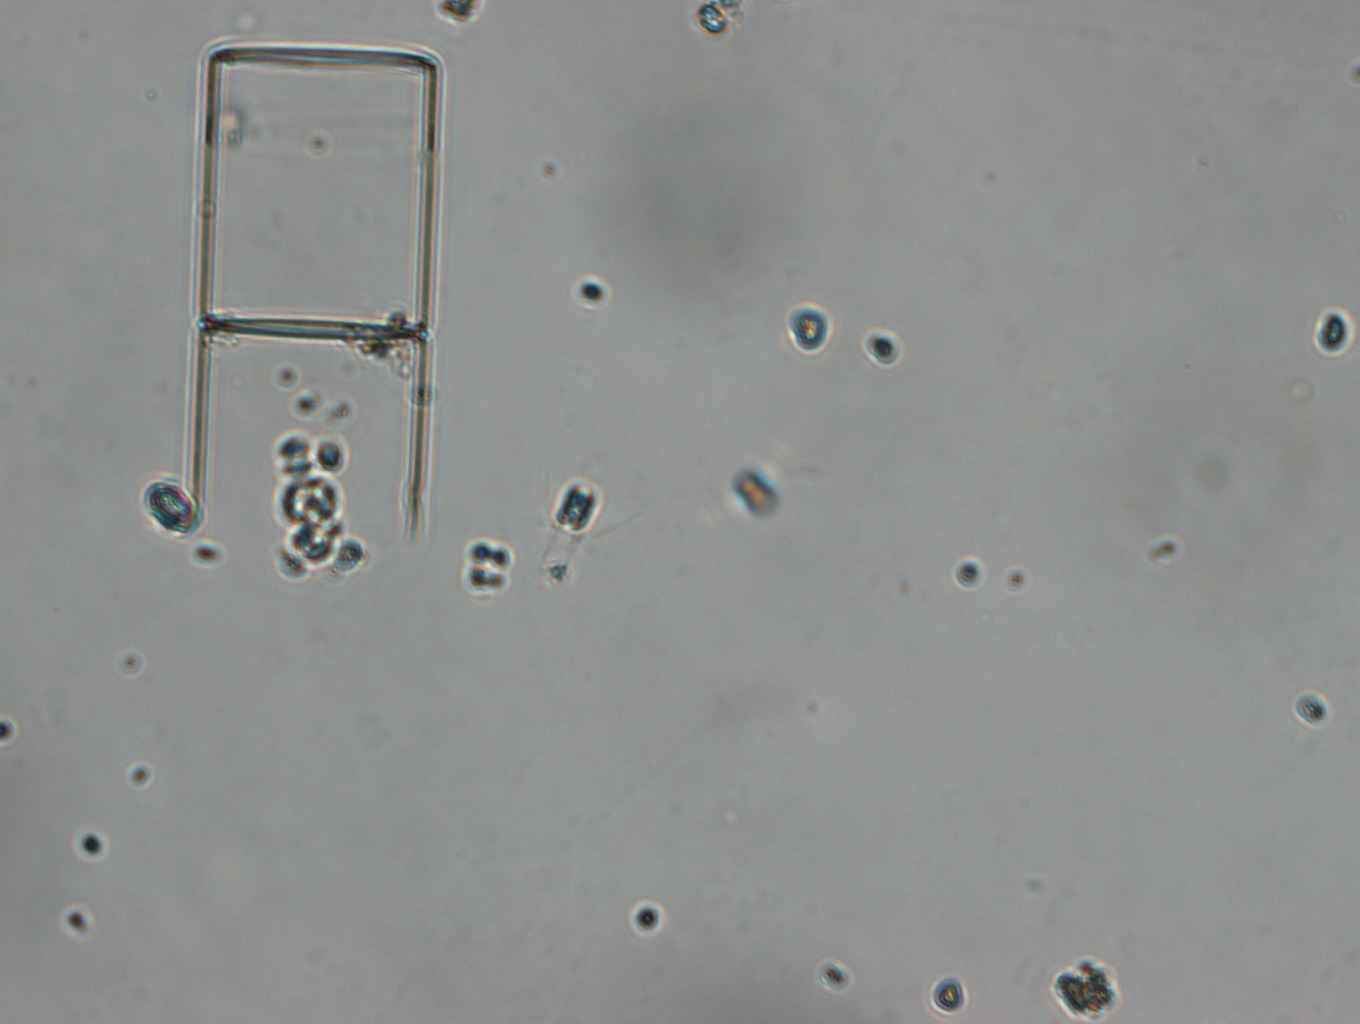guinardia flaccida: (181, 40, 439, 540)
